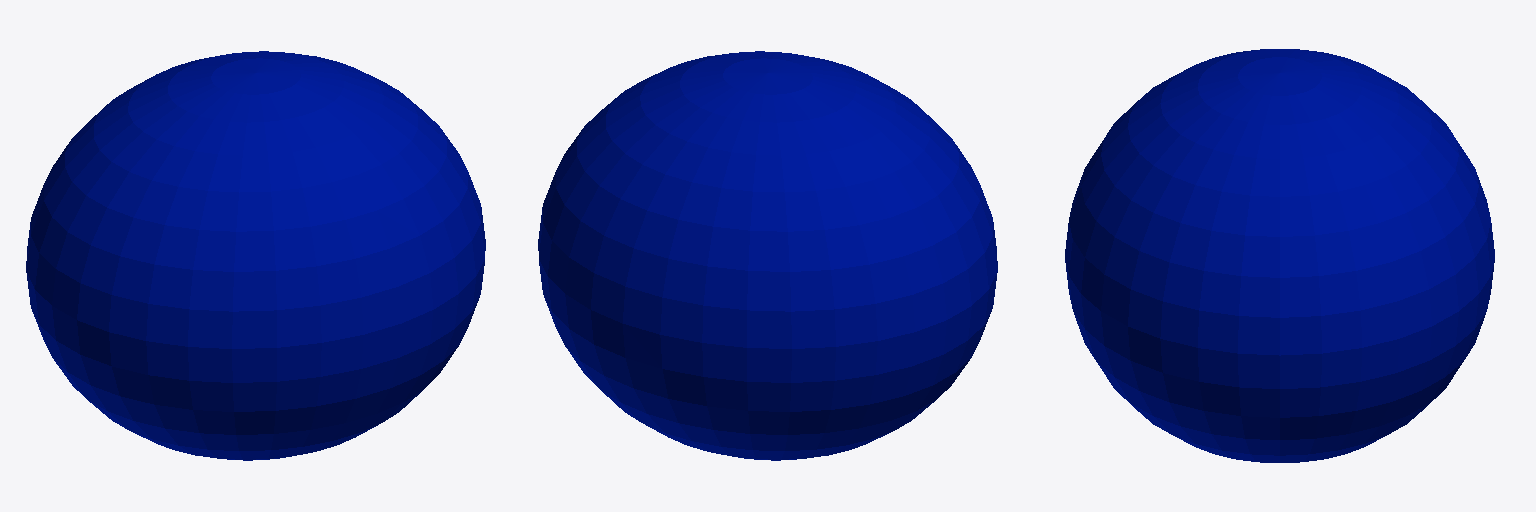
The model's file is moya_airpot_b.obj.
3 views of the same model, side by side, from view 1: azimuth 30°, elevation 25°; view 2: azimuth 150°, elevation 25°; view 3: azimuth 270°, elevation 25° (orthographic).
Visible parts, largest first — view 1: Sphere_Sphere.005_Sphere_Sphere.008; view 2: Sphere_Sphere.005_Sphere_Sphere.008; view 3: Sphere_Sphere.005_Sphere_Sphere.008.
Boxes of the visible parts, <box> form: Sphere_Sphere.005_Sphere_Sphere.008: <box>26,51,485,460</box>; Sphere_Sphere.005_Sphere_Sphere.008: <box>538,51,997,460</box>; Sphere_Sphere.005_Sphere_Sphere.008: <box>1065,49,1494,462</box>.
Bounding box in the file's own units: 0.2297 × 0.1969 × 0.21.